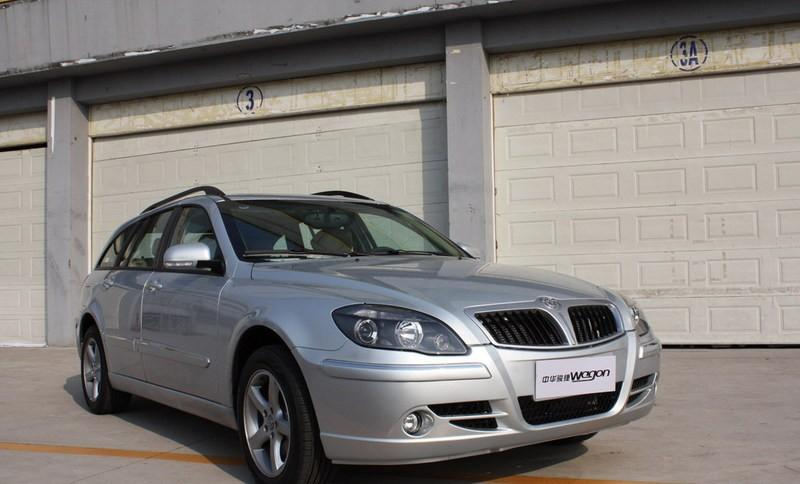Wagon: (74, 185, 664, 484)
